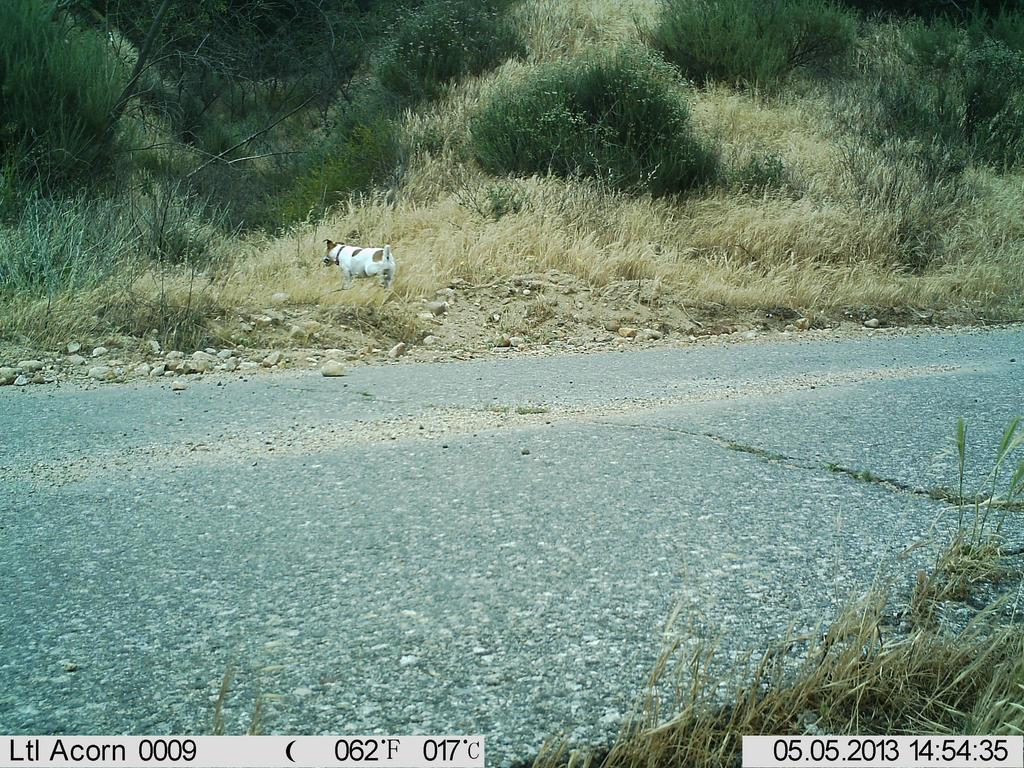dog: (286, 222, 406, 304)
